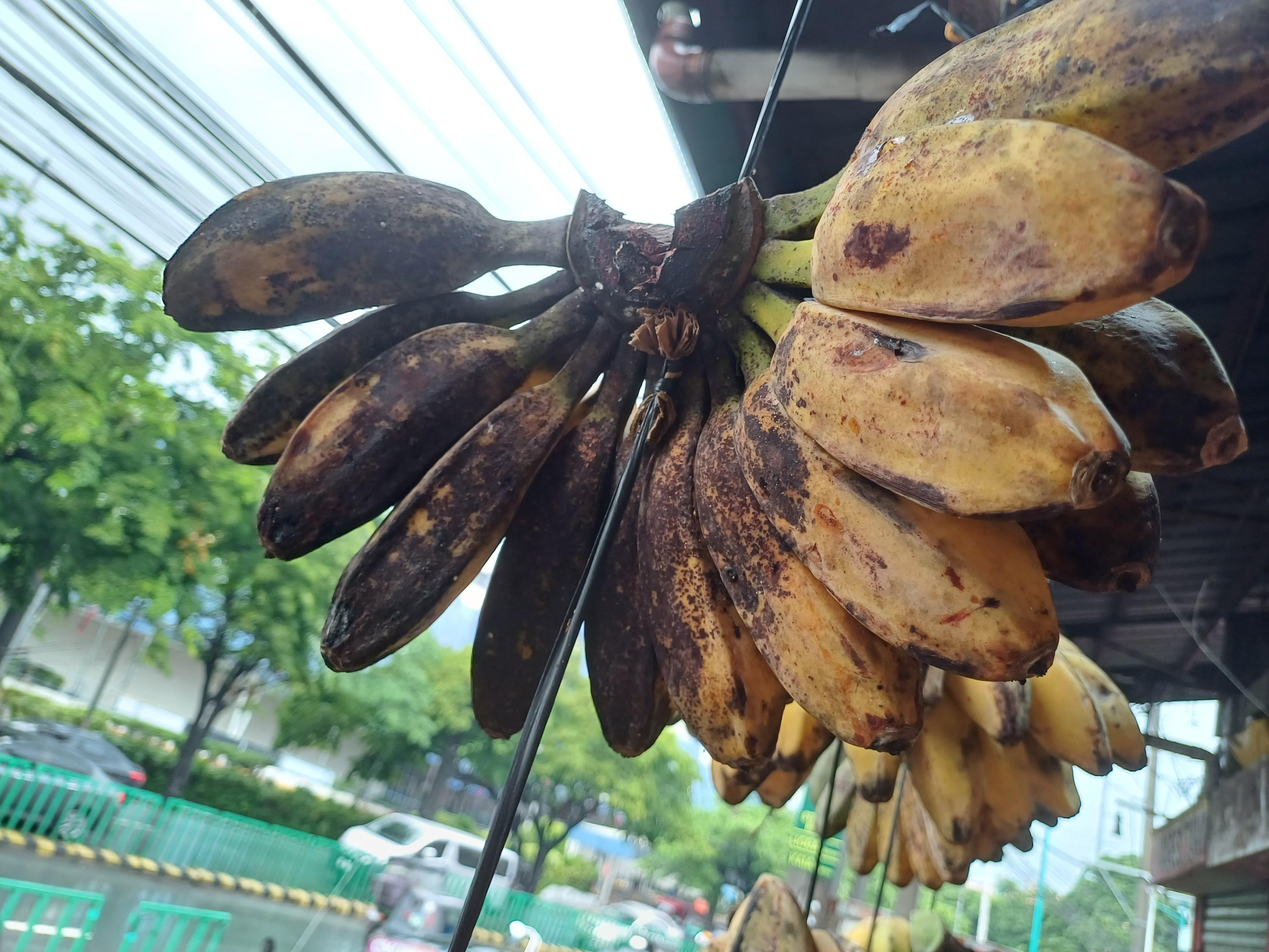overripe: (162, 0, 1267, 768)
ripe: (827, 635, 1149, 890)
